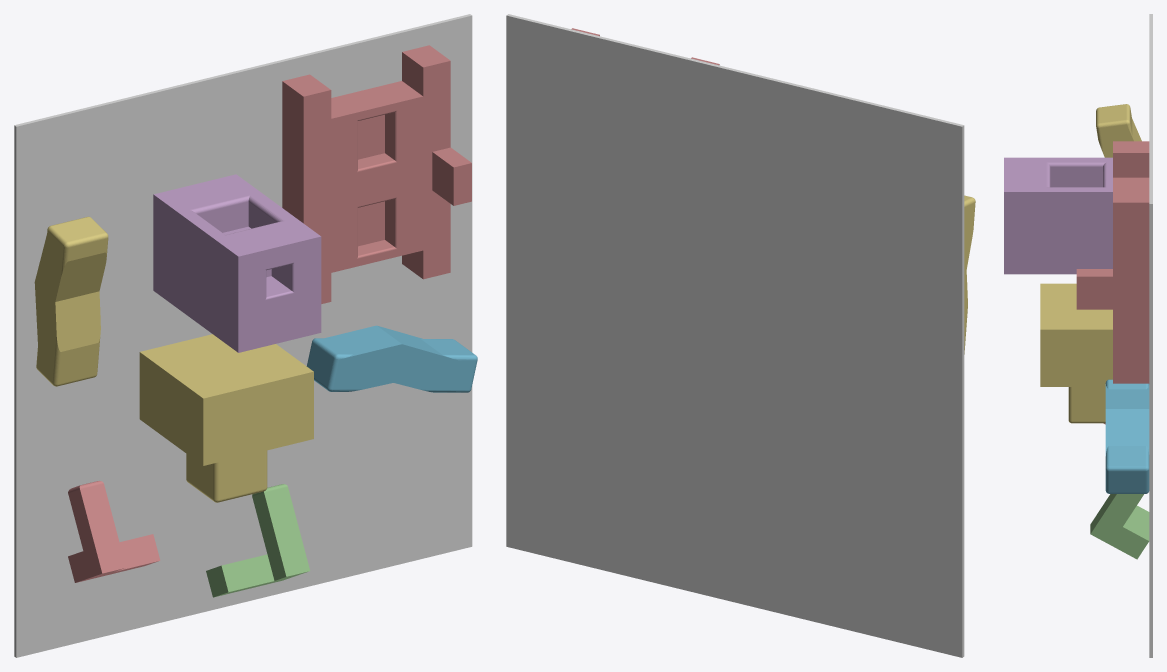
Rendered from pickup_layout.glb.
The picture shows the model from 3 angles, left to right: view 1: azimuth 30°, elevation 25°; view 2: azimuth 150°, elevation 25°; view 3: azimuth 270°, elevation 25°; orthographic projection. The views are drawn at different scales.
Visible parts, largest first — view 1: world, 0.obj, 3.obj, 6.obj, 1.obj, 2.obj, 4.obj, 5.obj; view 2: world, 1.obj; view 3: 3.obj, 0.obj, 6.obj, 2.obj, 4.obj, world, 1.obj.
Part boxes in pixels (box(x1,y1,x2,y2)): world: box(14, 14, 472, 657); 0.obj: box(282, 45, 471, 303); 3.obj: box(153, 174, 321, 352); 6.obj: box(139, 334, 313, 502); 1.obj: box(34, 216, 108, 386); 2.obj: box(306, 325, 477, 392); 4.obj: box(206, 484, 310, 597); 5.obj: box(68, 480, 160, 582); world: box(506, 14, 964, 657); 1.obj: box(964, 195, 975, 354); 3.obj: box(1004, 157, 1112, 274); 0.obj: box(1076, 141, 1149, 383); 6.obj: box(1040, 283, 1112, 423); 2.obj: box(1105, 379, 1149, 493); 4.obj: box(1090, 494, 1149, 559); world: box(1149, 14, 1152, 657); 1.obj: box(1096, 104, 1141, 157).
Size of the model in its own units: 24.77 by 27.58 by 8.2.
